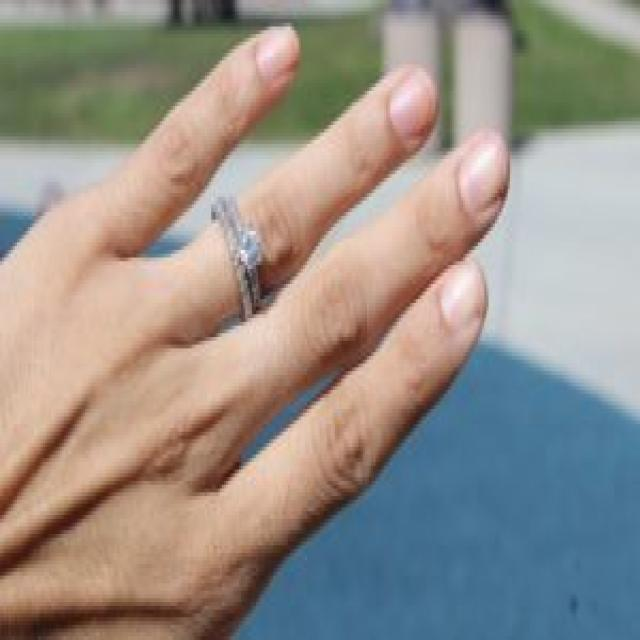Ring: (201, 169, 289, 333)
